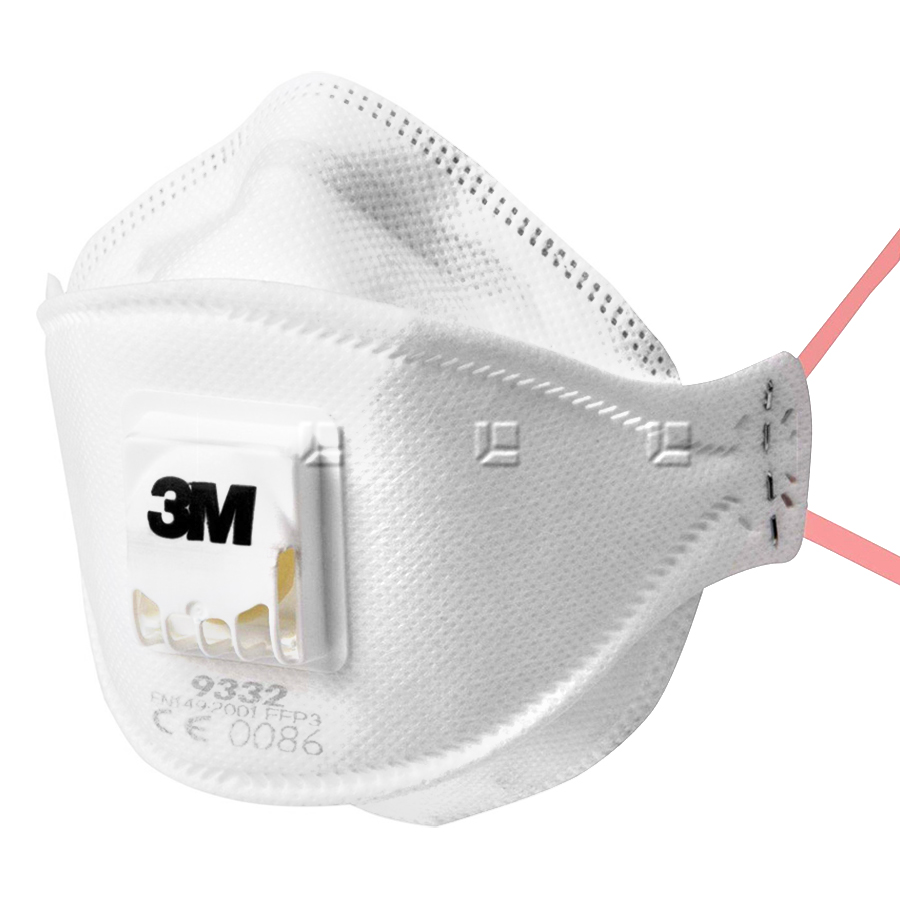3M: (136, 471, 267, 558)
